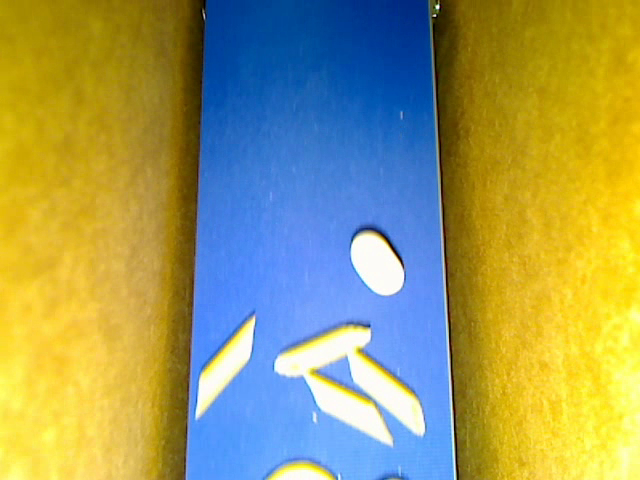penne: (344, 345, 425, 436), (300, 368, 391, 444), (192, 313, 256, 418), (273, 323, 371, 377)
